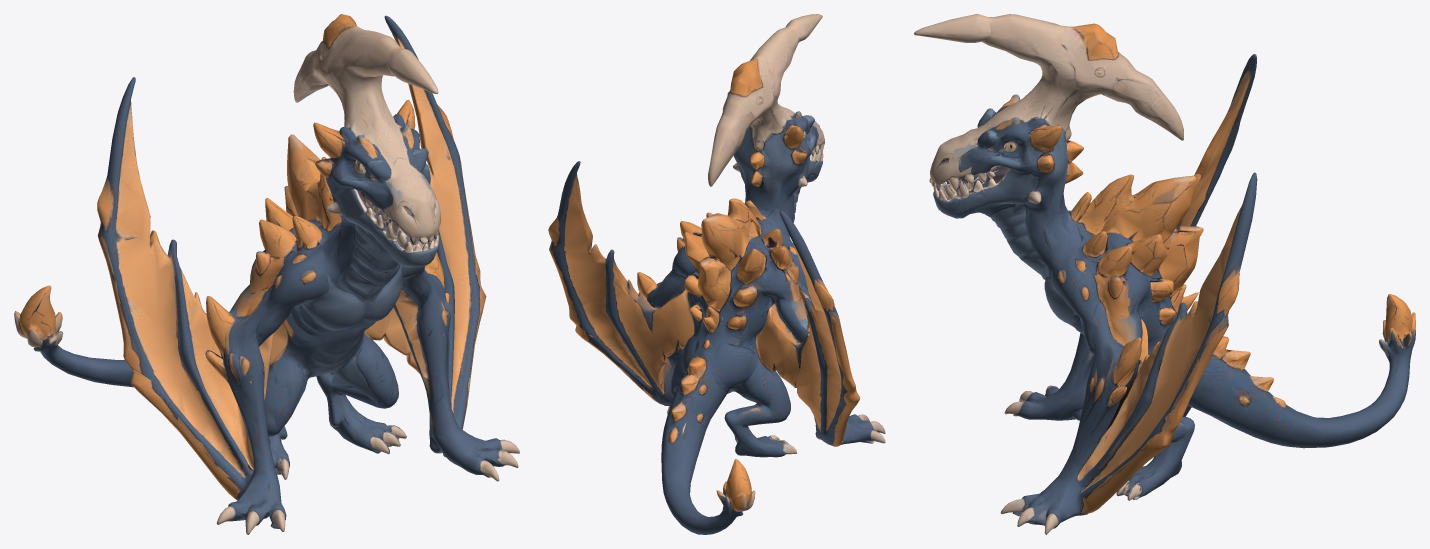
3 views of the same model, side by side, from view 1: azimuth 30°, elevation 25°; view 2: azimuth 150°, elevation 25°; view 3: azimuth 270°, elevation 25° (orthographic). The views are drawn at different scales.
Visible parts, largest first — view 1: Mesh_0; view 2: Mesh_0; view 3: Mesh_0.
Boxes of the visible parts, x1,y1,x2,y2 form: Mesh_0: (14,14,519,534); Mesh_0: (548,14,885,534); Mesh_0: (914,14,1415,534).
Size of the model in its own units: 1.51 by 1.88 by 1.9.
1 material, 1 textured.
